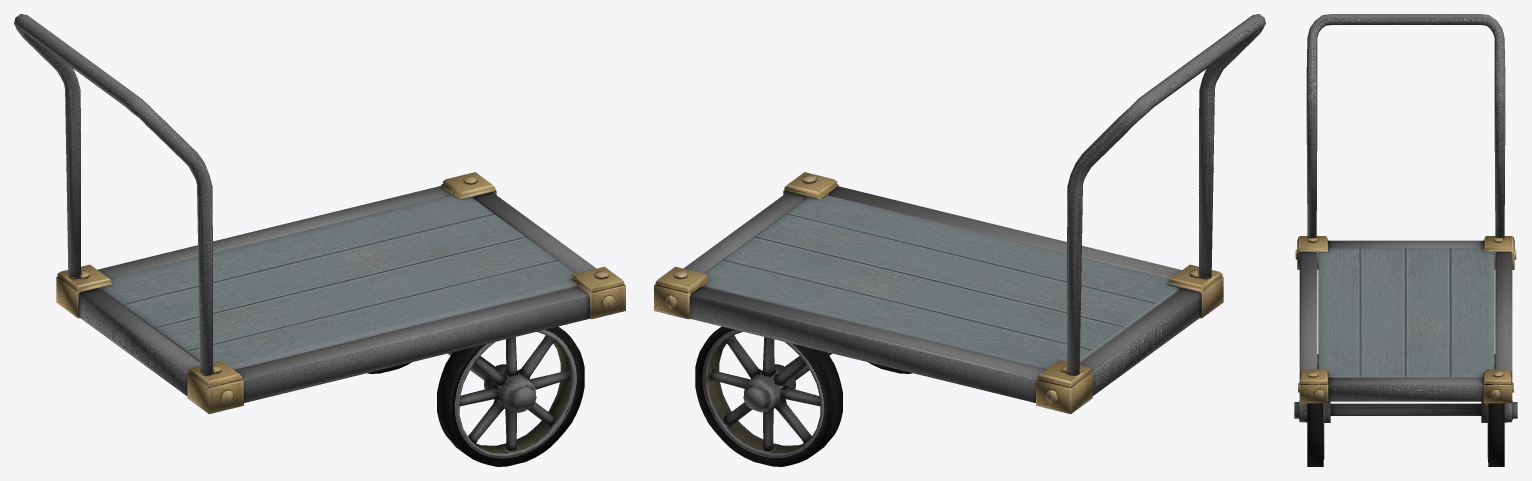
Rendered from tripo_convert_46e80a07-fa29-414f-be53-db27ca182c8e.fbx.
3 renders of one model, left to right at view 1: azimuth 30°, elevation 25°; view 2: azimuth 150°, elevation 25°; view 3: azimuth 270°, elevation 25°, orthographic. The views are drawn at different scales.
Visible parts, largest first — view 1: tripo_node_46e80a07; view 2: tripo_node_46e80a07; view 3: tripo_node_46e80a07.
Boxes of the visible parts, x1,y1,x2,y2 form: tripo_node_46e80a07: (14,14,625,466); tripo_node_46e80a07: (654,14,1265,466); tripo_node_46e80a07: (1294,14,1517,466).
Size of the model in its own units: 0.998 by 0.8887 by 0.5645.
1 material, 1 textured.
